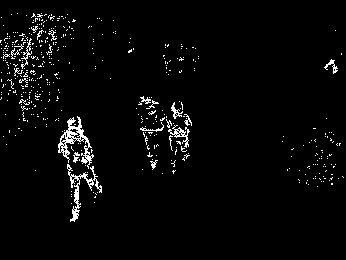person: (58, 116, 103, 224), (136, 93, 166, 170), (167, 103, 193, 173)
